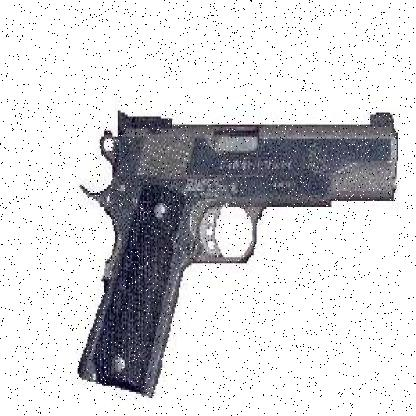pistol: (71, 111, 397, 392)
